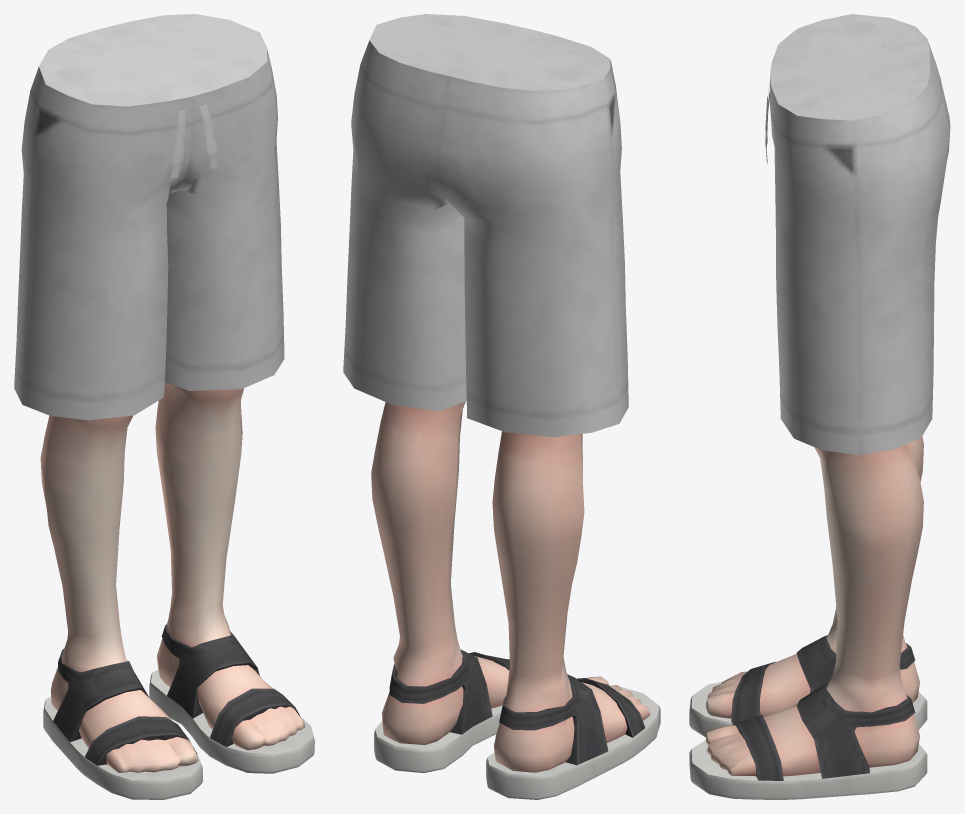
The model's file is tr0760_00_lwb01.gltf.
The picture shows the model from 3 angles, left to right: view 1: azimuth 30°, elevation 25°; view 2: azimuth 150°, elevation 25°; view 3: azimuth 270°, elevation 25°; orthographic projection. The views are drawn at different scales.
Parts seen in each view (by area): view 1: lwb01_lowerbody_mesh_shape:lowerbody01, lwb01_lowerbody_skin_mesh_shape:lowerbody01_skin, lwb01_shoes_mesh_shape:lowerbody01; view 2: lwb01_lowerbody_mesh_shape:lowerbody01, lwb01_lowerbody_skin_mesh_shape:lowerbody01_skin, lwb01_shoes_mesh_shape:lowerbody01; view 3: lwb01_lowerbody_mesh_shape:lowerbody01, lwb01_lowerbody_skin_mesh_shape:lowerbody01_skin, lwb01_shoes_mesh_shape:lowerbody01.
Boxes of the visible parts, x1,y1,x2,y2 form: lwb01_lowerbody_mesh_shape:lowerbody01: (14, 14, 284, 420); lwb01_lowerbody_skin_mesh_shape:lowerbody01_skin: (40, 382, 304, 772); lwb01_shoes_mesh_shape:lowerbody01: (43, 624, 314, 799); lwb01_lowerbody_mesh_shape:lowerbody01: (343, 14, 628, 436); lwb01_lowerbody_skin_mesh_shape:lowerbody01_skin: (371, 401, 650, 772); lwb01_shoes_mesh_shape:lowerbody01: (374, 649, 660, 799); lwb01_lowerbody_mesh_shape:lowerbody01: (765, 14, 950, 455); lwb01_lowerbody_skin_mesh_shape:lowerbody01_skin: (705, 436, 923, 776); lwb01_shoes_mesh_shape:lowerbody01: (689, 635, 927, 799).
Size of what is drawn, in the model's own units: 0.3666 by 0.9298 by 0.3201.
Materials: 2 (2 with a texture image).
